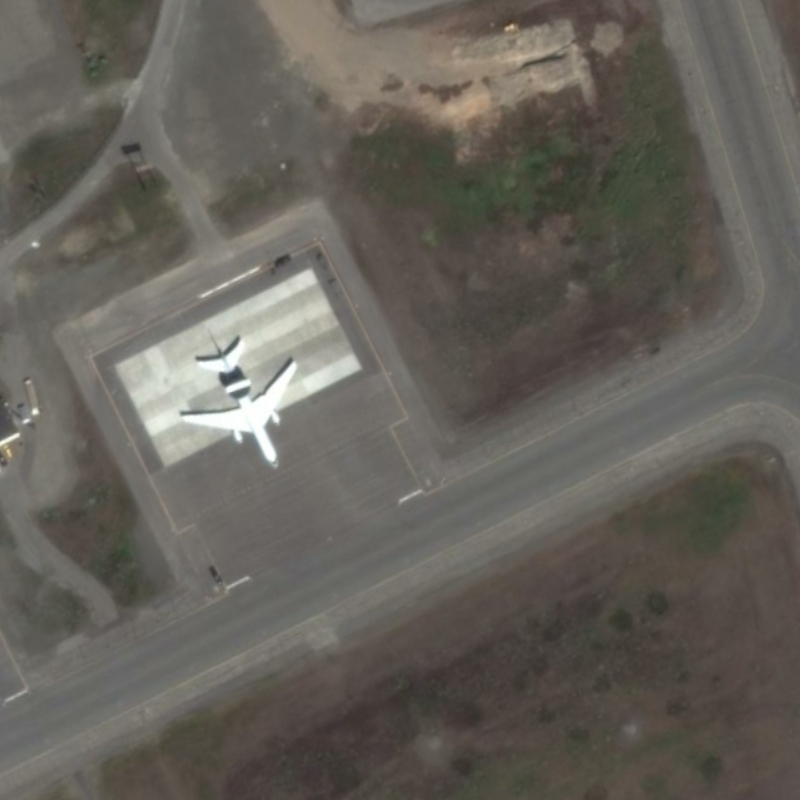A7: (171, 322, 300, 480)
